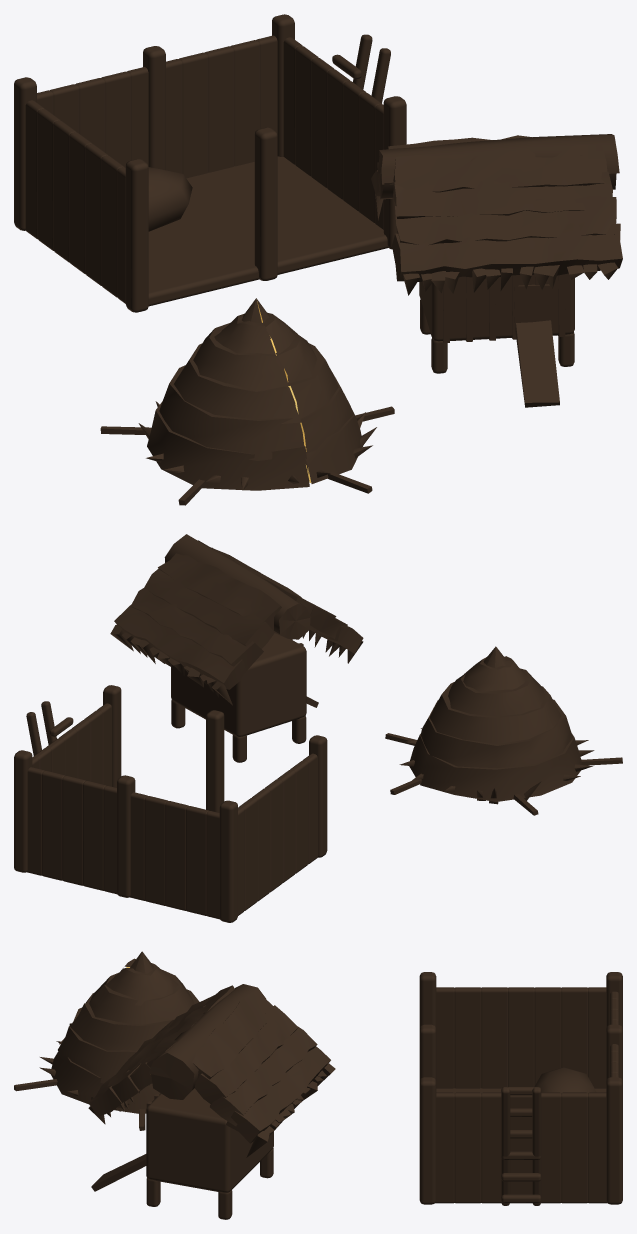
Rendered from painted-paddock.glb.
The picture shows the model from 3 angles, top to bottom: view 1: azimuth 30°, elevation 25°; view 2: azimuth 150°, elevation 25°; view 3: azimuth 270°, elevation 25°; orthographic projection. The views are drawn at different scales.
Visible parts, largest first — view 1: painted-paddock-outline; view 2: painted-paddock-outline; view 3: painted-paddock-outline.
Part boxes in pixels (x1,y1,x2,y2): painted-paddock-outline: [14, 14, 622, 505]; painted-paddock-outline: [14, 534, 622, 922]; painted-paddock-outline: [14, 951, 622, 1219].
Size of the model in its own units: 5.23 by 2.07 by 6.26.
